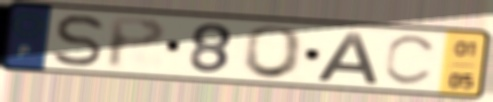8: (188, 22, 235, 75)
A: (312, 29, 381, 85)
C: (381, 34, 441, 88)
O: (239, 24, 309, 81)
P: (104, 15, 170, 72)
S: (50, 13, 108, 69)
